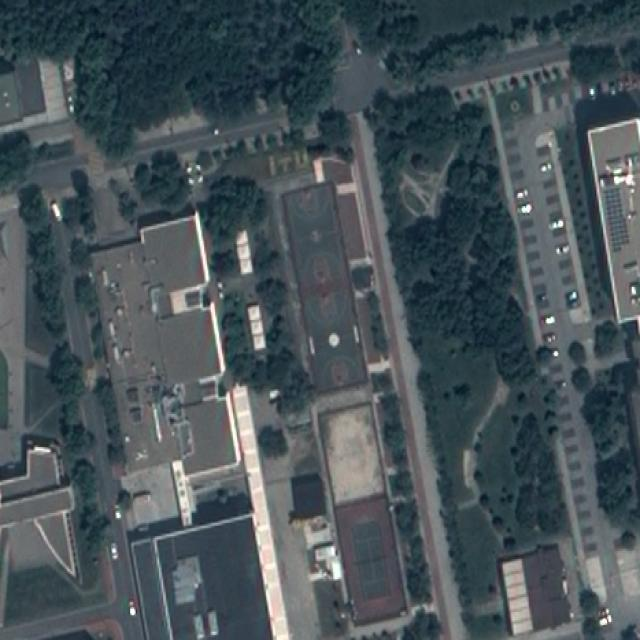Batiment: (92, 215, 238, 473), (320, 403, 405, 622), (282, 182, 366, 390), (131, 516, 269, 639), (588, 117, 640, 322)
